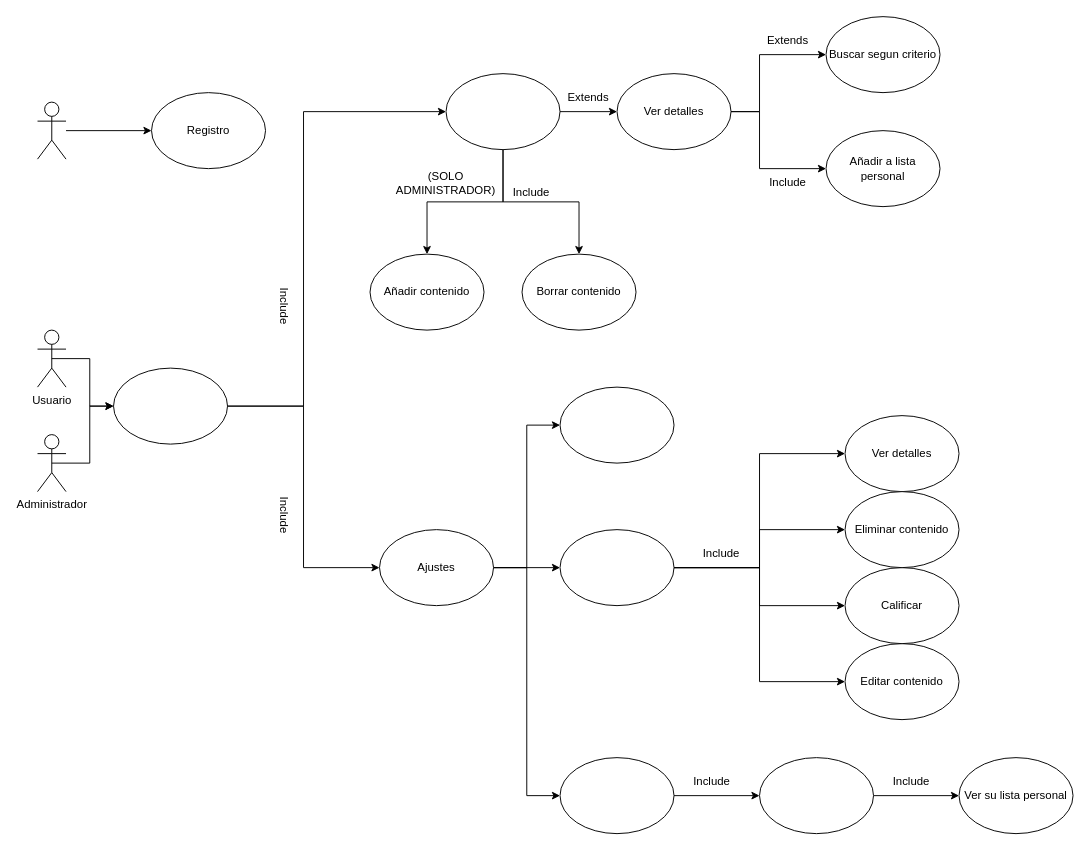
Some shapes in this 1090 by 850 pixel diagram are drawn without their labels. The centre of each missing label's shape, as x and y in pixels:
"Buscar usuarios" belongs at (616,795).
"Invitado" belongs at (51,130).
"Logueo" belongs at (170,405).
"Ver contenido de las listas" belongs at (502,111).
"Ver lista personal" belongs at (616,567).
"Ver perfil" belongs at (616,424).
"Ver perfil usuario" belongs at (816,795).
